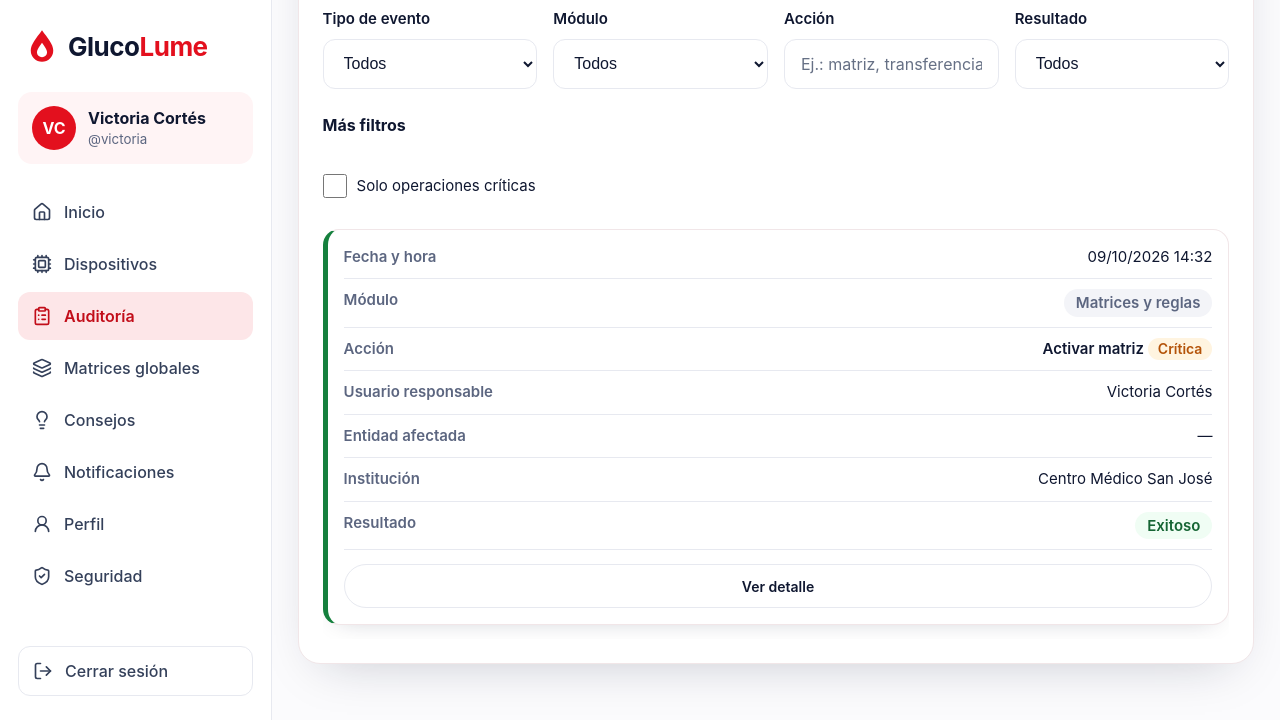
it: Auditoría general (administrador del sistema) › abre el detalle de un evento con sus valores previos y nuevos
(page scrolled)
Step 1. Click the link with aria-label "Ver detalle: Activar matriz" → (778, 586), box [344, 564, 1212, 608]
(page scrolled)
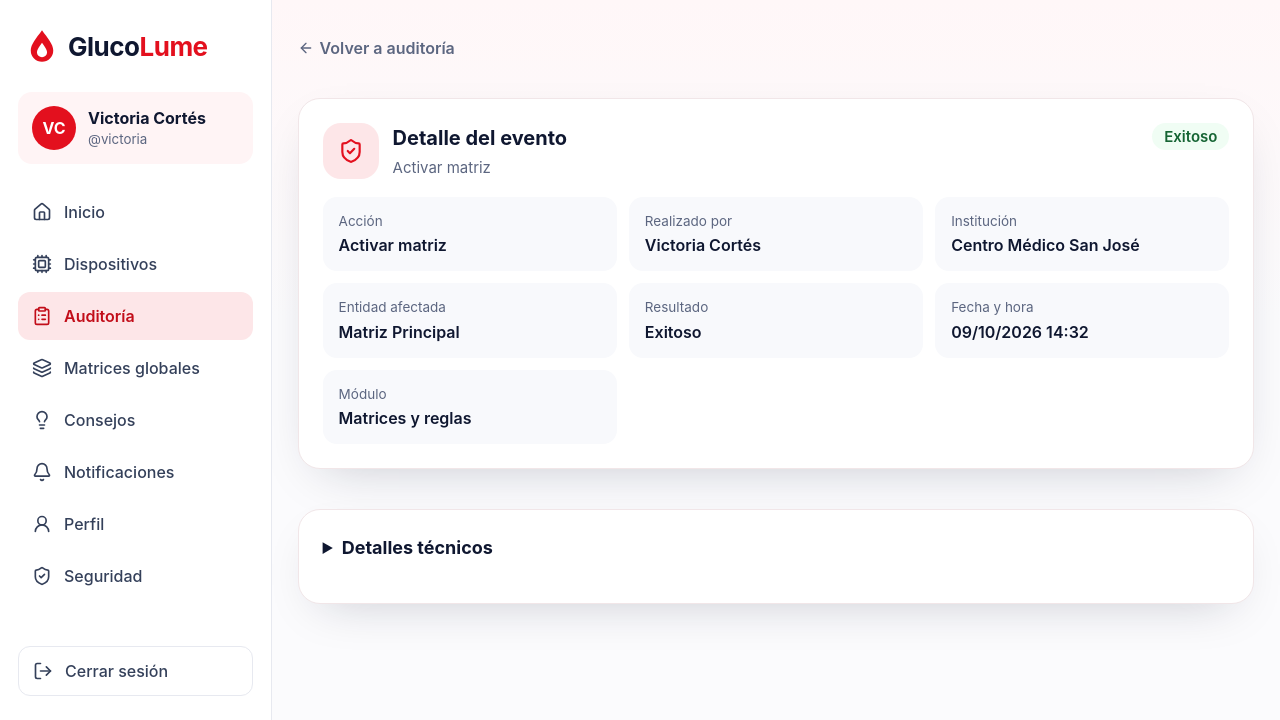
Result: the heading "Detalle del evento" is shown at [393, 123, 567, 153]
Result: the text "Matriz Principal" is shown at [339, 322, 460, 342]
Result: the text "Realizado por" is shown at [645, 213, 732, 229]
Step 2. Click the link "Volver a auditoría" → (376, 48), box [298, 38, 455, 58]
(page scrolled)
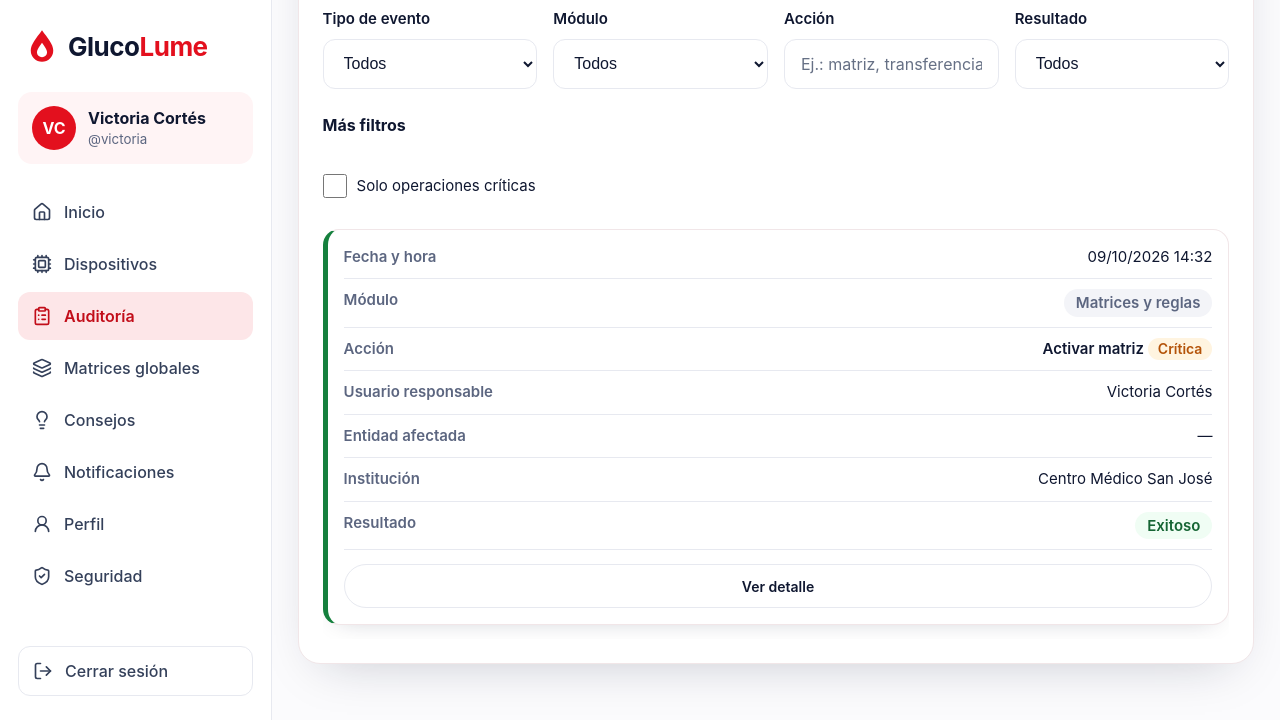
Result: the table named "Eventos de auditoría" is shown at [323, 229, 1229, 625]
Result: the heading "Detalle del evento" is gone
